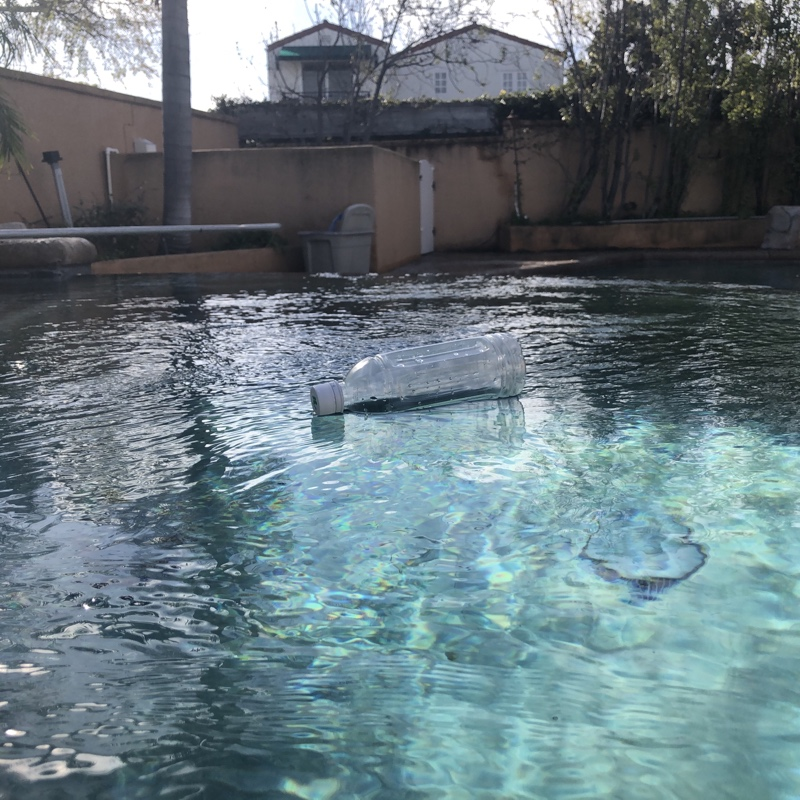Plastic Bottle: (307, 328, 529, 421)
